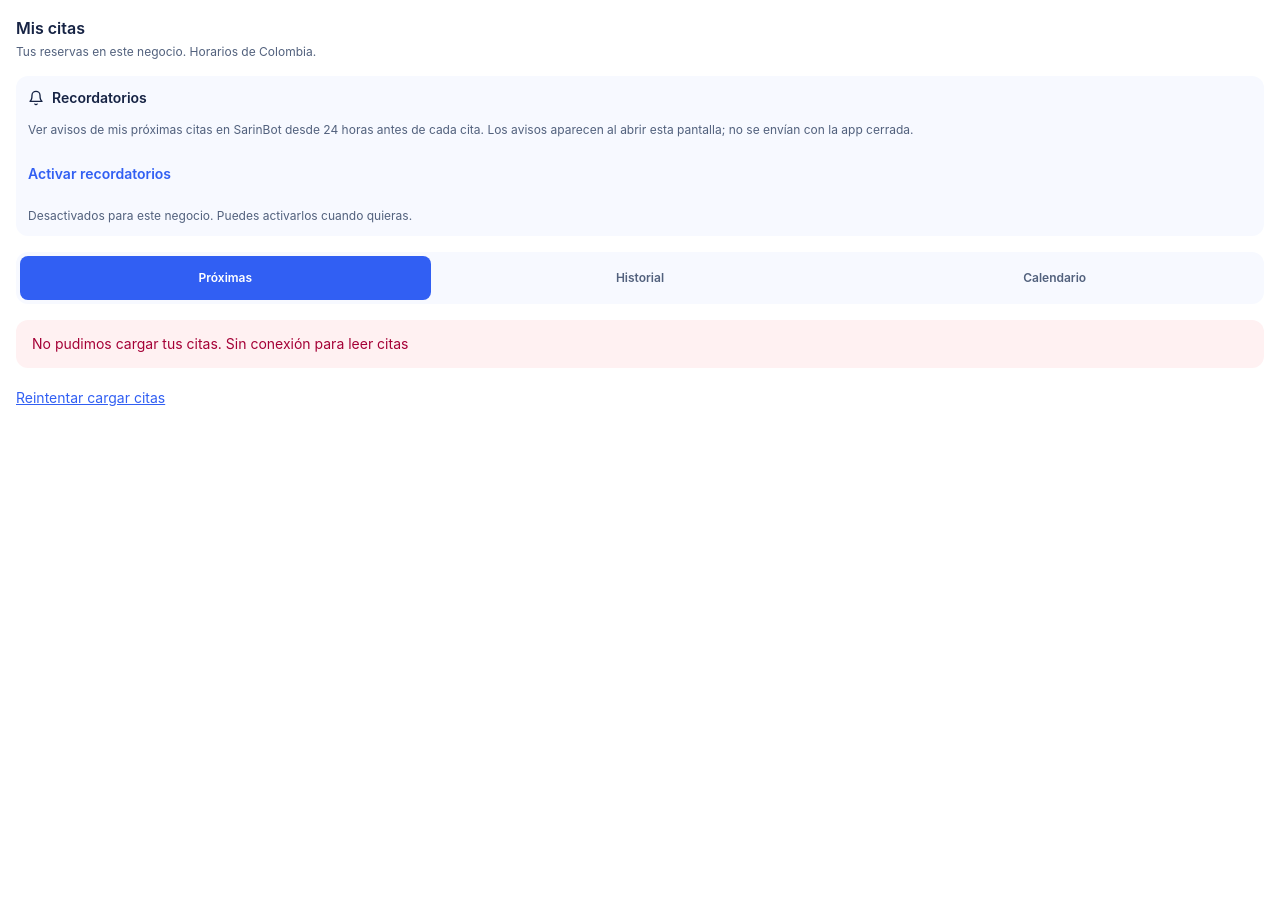
Test: the customer's appointments within one business › keeps read failures separate from the chat and retries its own appointment subscription
This screenshot has width=1280, height=900.
What coordinates should you click on to do the following:
click the button "Reintentar cargar citas"
I would click on:
 (91, 398)
Its box is [16, 376, 165, 420].
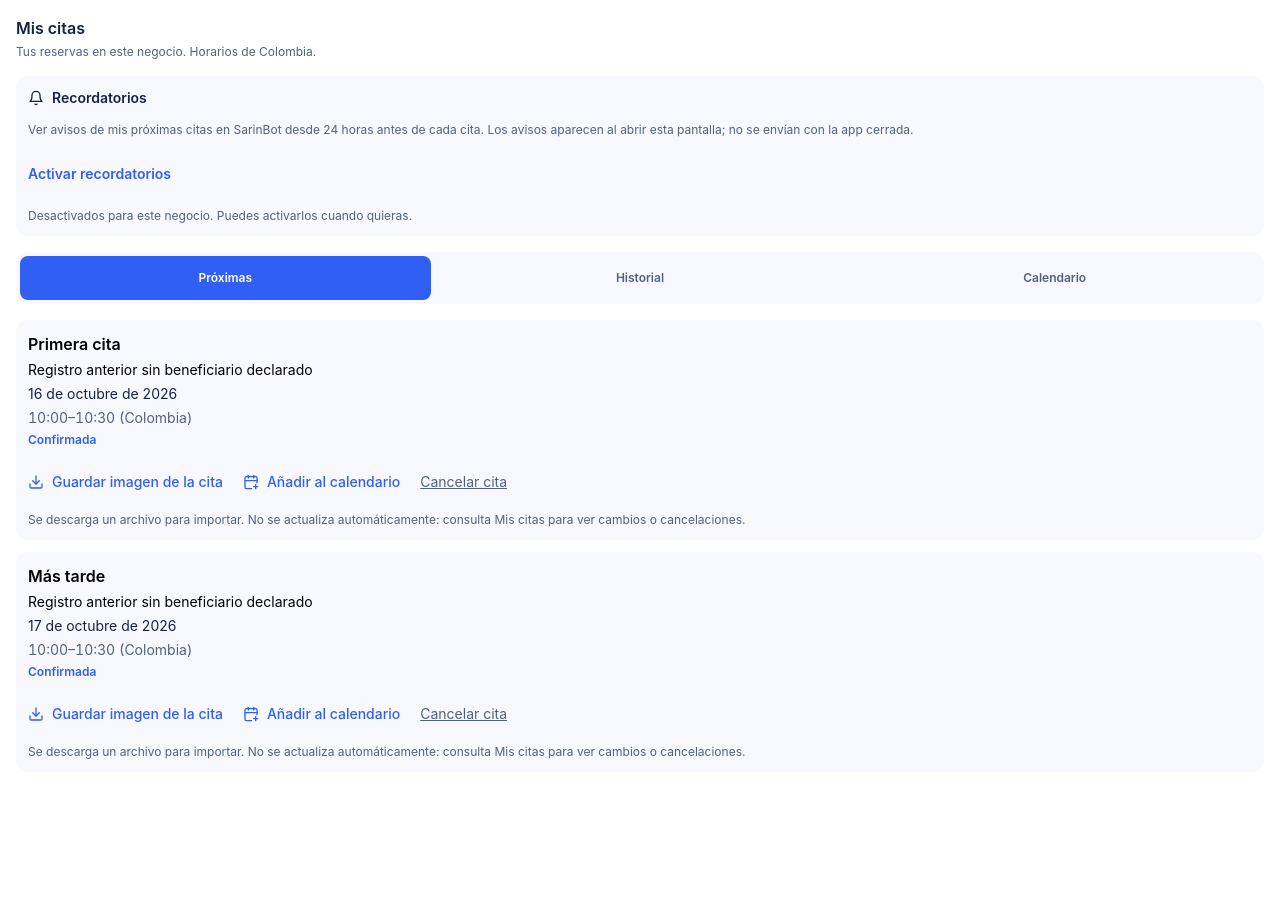
Result: the text "Primera cita" is shown at [28, 334, 121, 354]
Result: the text "Sin conexión para leer citas" is gone
